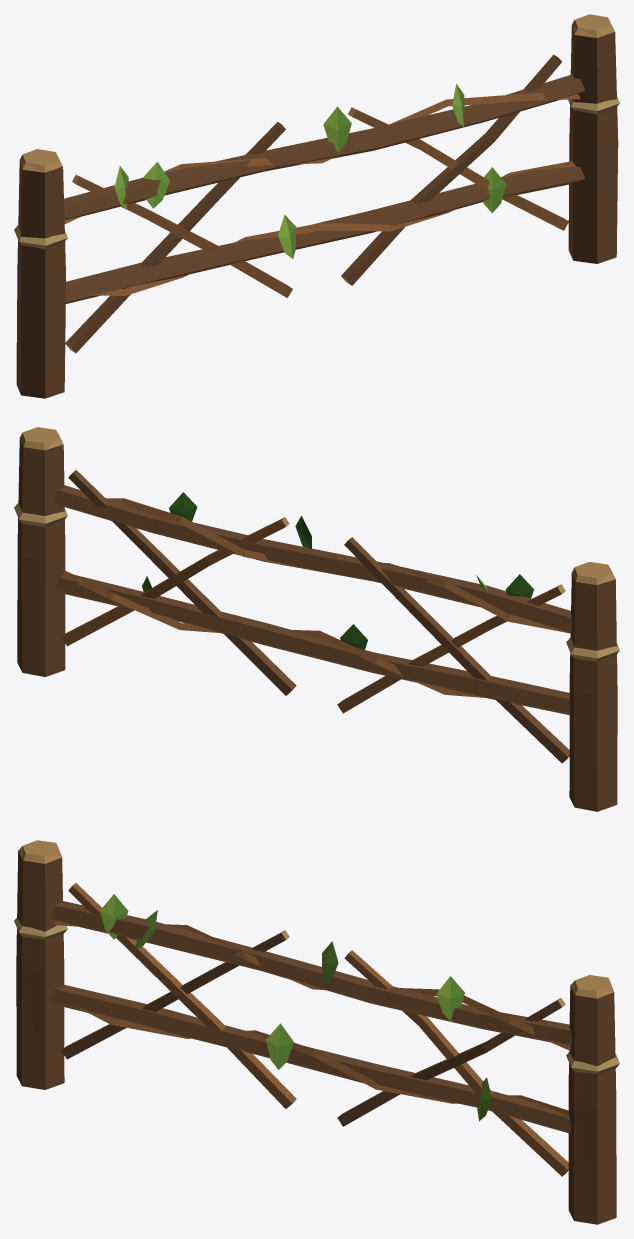
Rendered from fence_twig.glb.
3 renders of one model, top to bottom at view 1: azimuth 30°, elevation 25°; view 2: azimuth 150°, elevation 25°; view 3: azimuth 330°, elevation 25°, orthographic.
Visible parts, largest first — view 1: fence_twig; view 2: fence_twig; view 3: fence_twig.
Boxes of the visible parts, <box> form: fence_twig: <box>14,14,619,398</box>; fence_twig: <box>14,427,619,811</box>; fence_twig: <box>14,840,619,1224</box>.
Bounding box in the file's own units: 2.18 × 0.8 × 0.1691.
